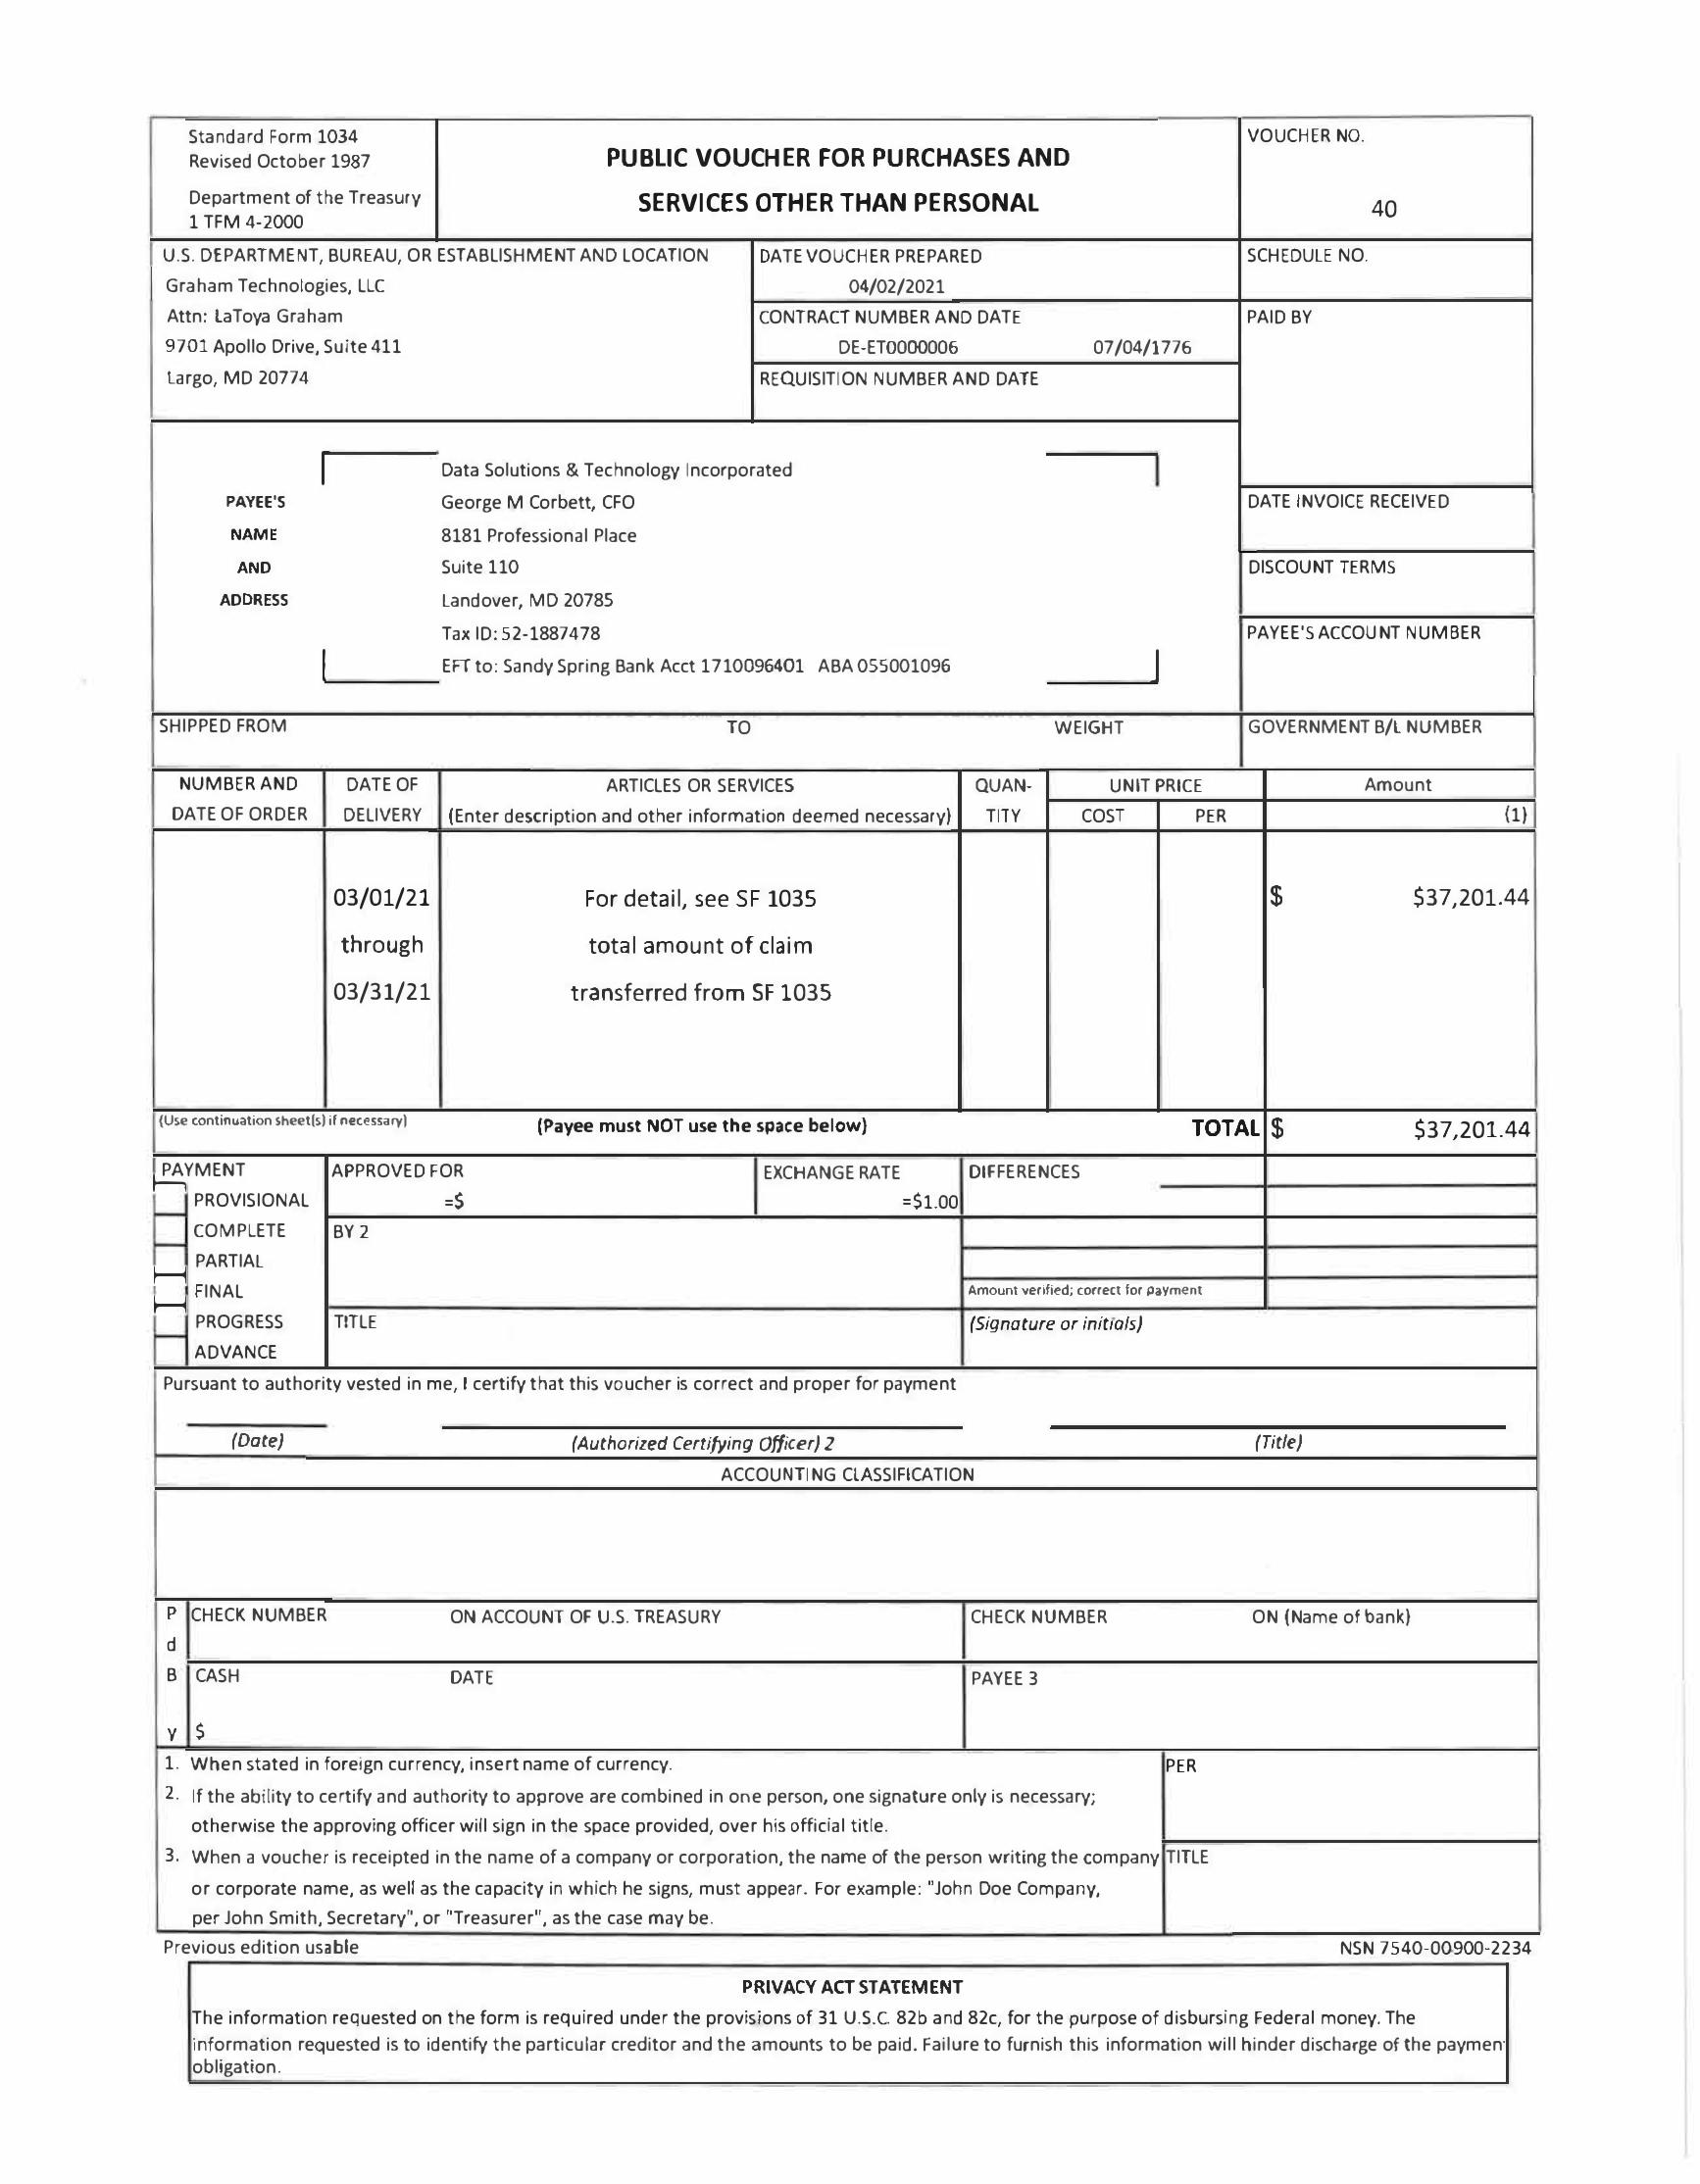table: (149, 769, 1548, 1111)
